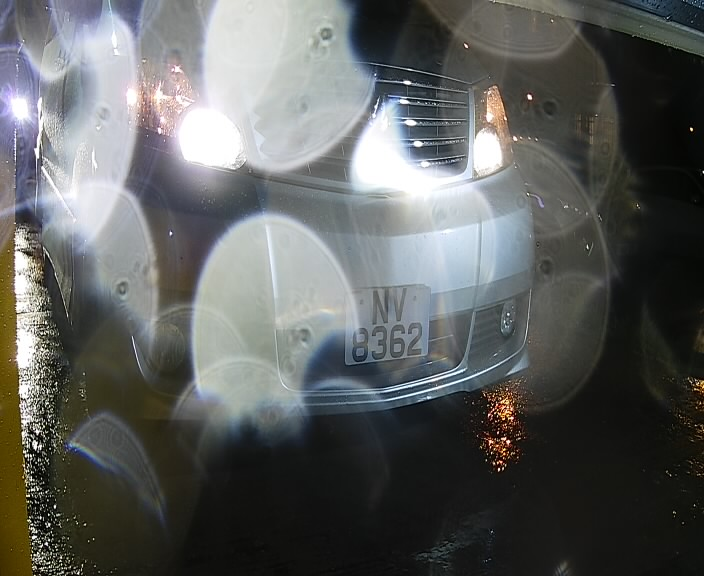Car: (46, 5, 656, 519)
License Plate: (335, 274, 442, 382)
